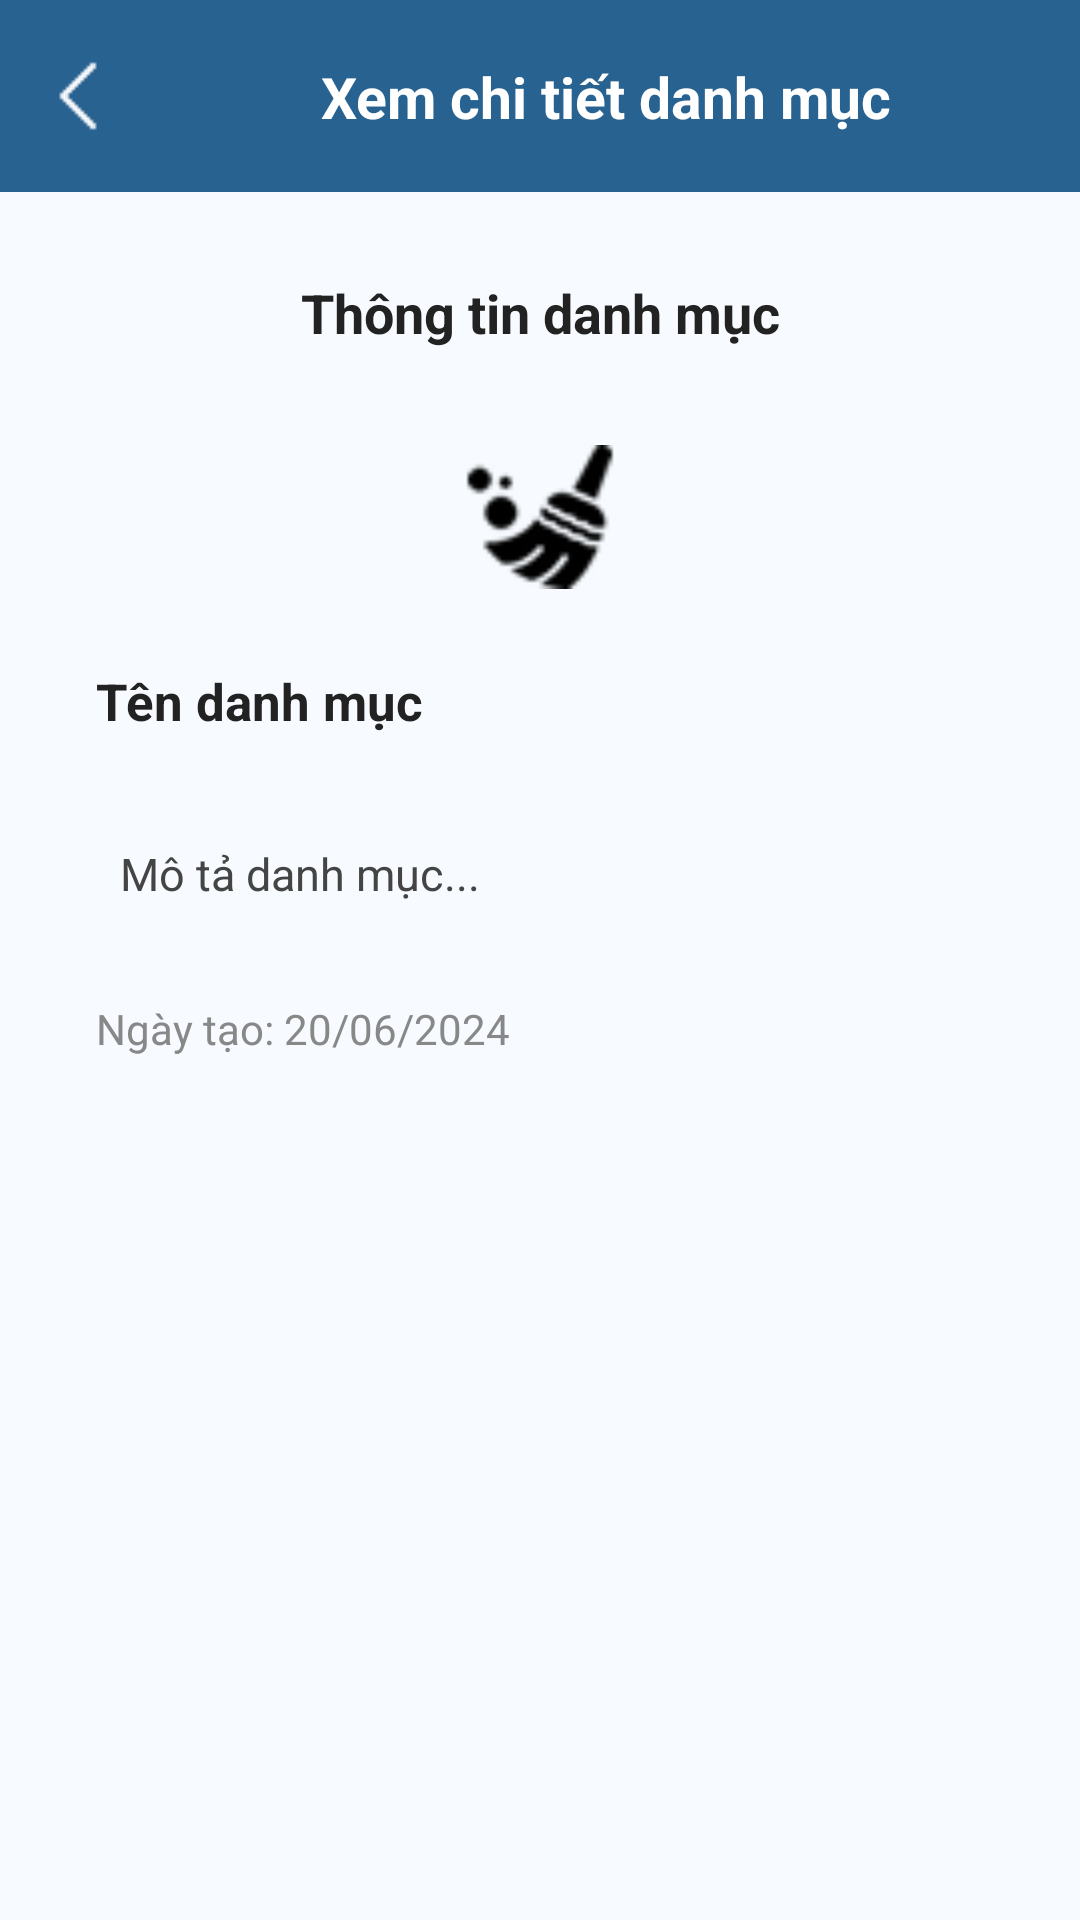

Screen size 1080 x 1920. Icon name, then its center in pixels as (x=x, y=y):
Quay lại: (x=78, y=96)
Ảnh danh mục: (x=540, y=517)
